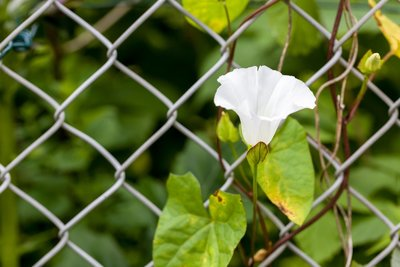haagwinde: (207, 63, 324, 155), (148, 168, 252, 267)
